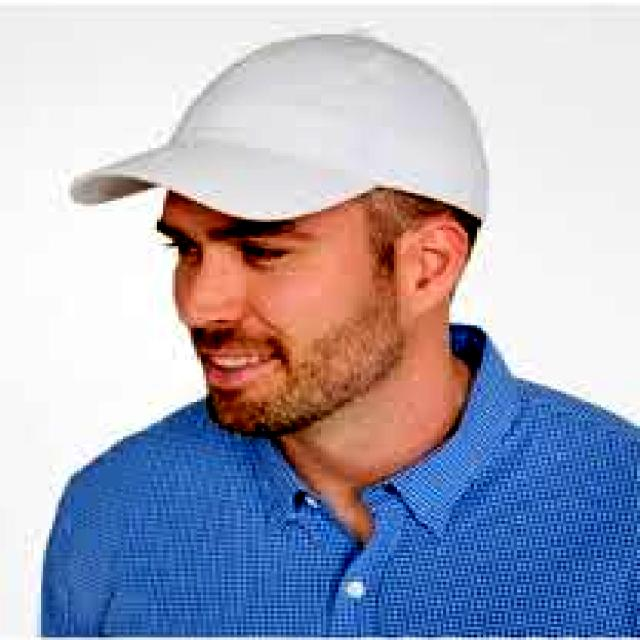face: (157, 194, 403, 433)
hat: (71, 35, 489, 222)
